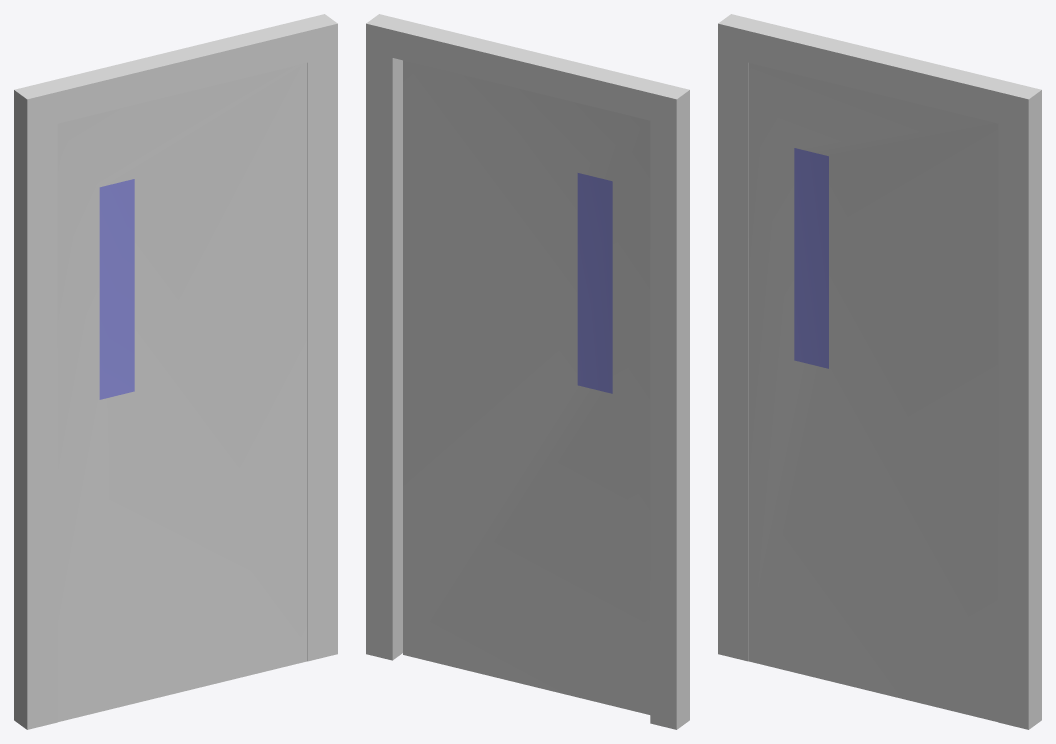
File: door308.fbx
3 views of the same model, side by side, from view 1: azimuth 30°, elevation 25°; view 2: azimuth 150°, elevation 25°; view 3: azimuth 330°, elevation 25° (orthographic).
Visible parts, largest first — view 1: Panel.004, Door.308; view 2: Panel.004, Door.308; view 3: Panel.004, Door.308.
Boxes of the visible parts, left/top/right/bottom form: Panel.004: left=57, top=63, right=307, bottom=721; Door.308: left=14, top=14, right=337, bottom=729; Panel.004: left=403, top=60, right=650, bottom=714; Door.308: left=366, top=14, right=689, bottom=729; Panel.004: left=748, top=63, right=998, bottom=721; Door.308: left=718, top=14, right=1041, bottom=729.
Bounding box in the file's own units: 82 × 159 × 6.
